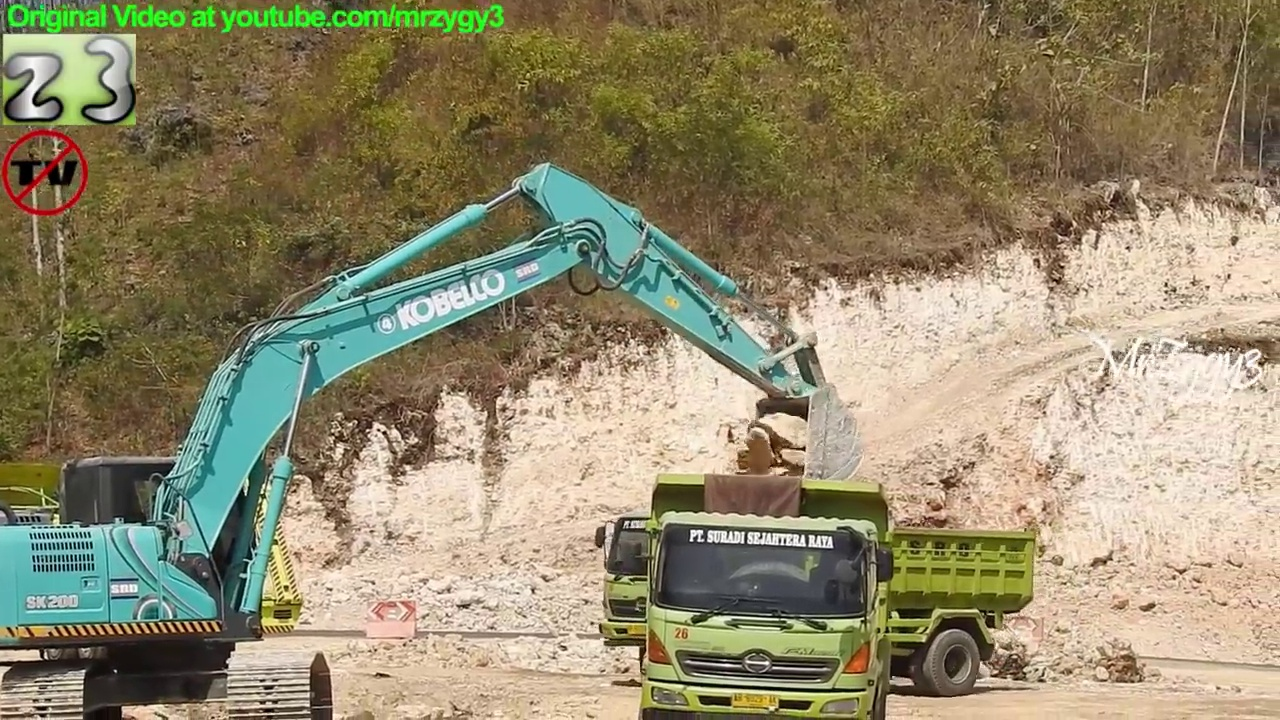excavator: (1, 150, 868, 720)
truck: (591, 509, 1044, 702), (622, 468, 896, 720), (1, 454, 307, 664)
